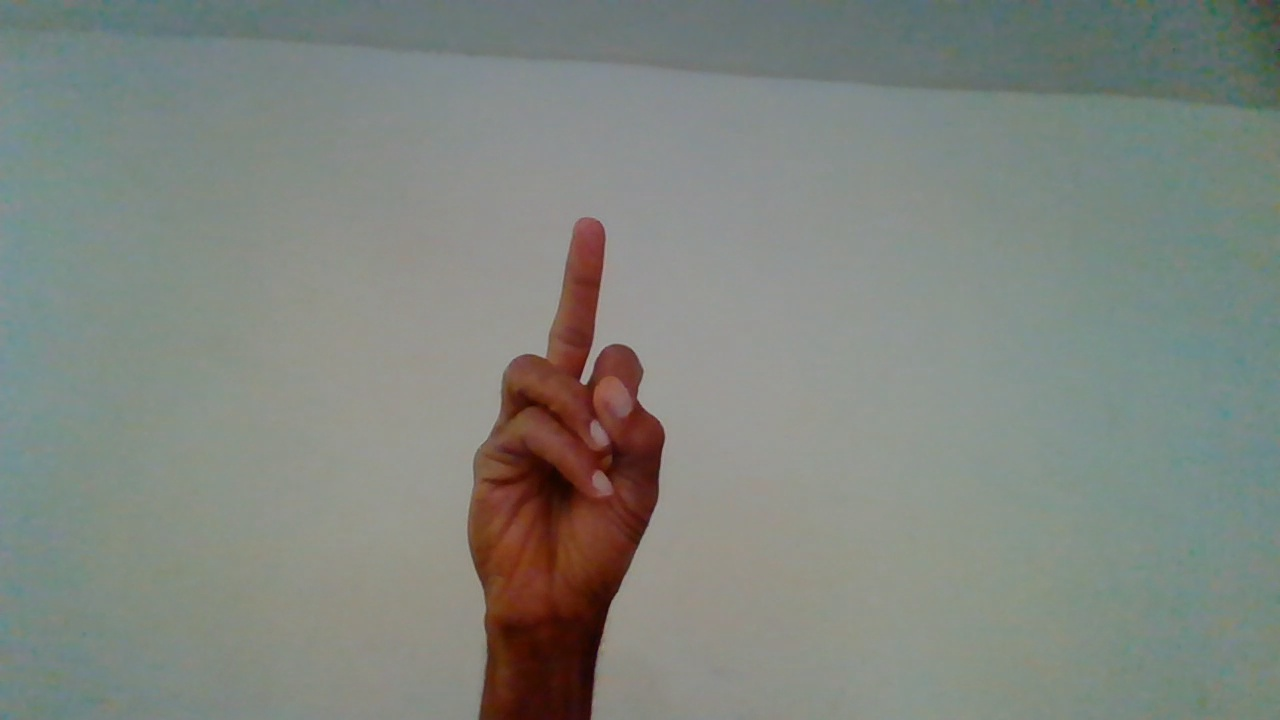he: (466, 214, 671, 698)
